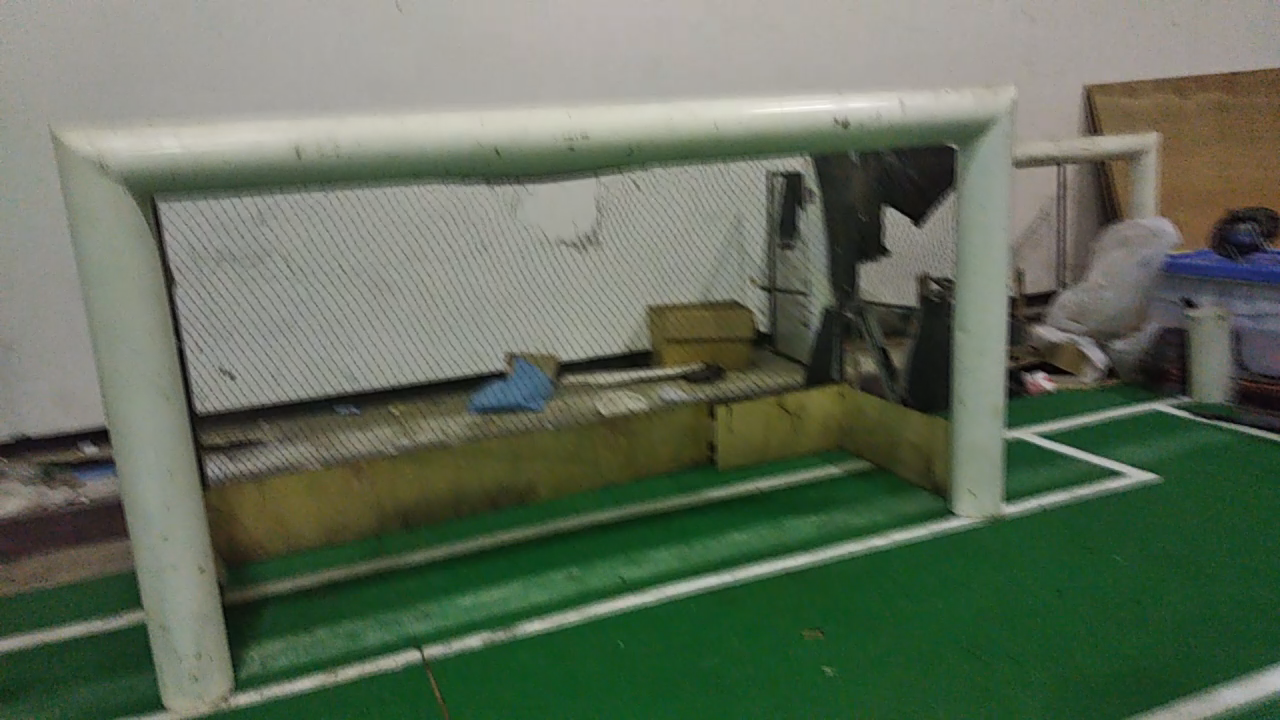gawang: (35, 72, 1029, 712)
